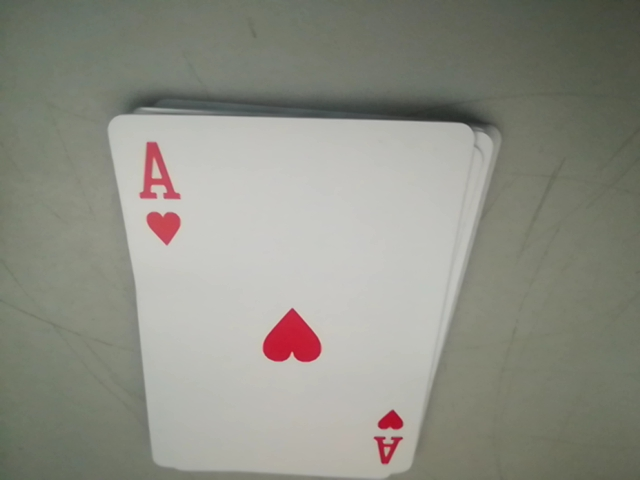hx a: (366, 404, 414, 472)
